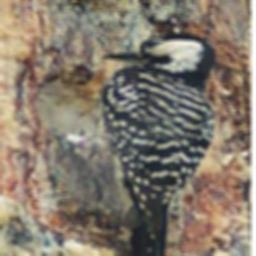Woodpecker: (43, 24, 227, 256)
